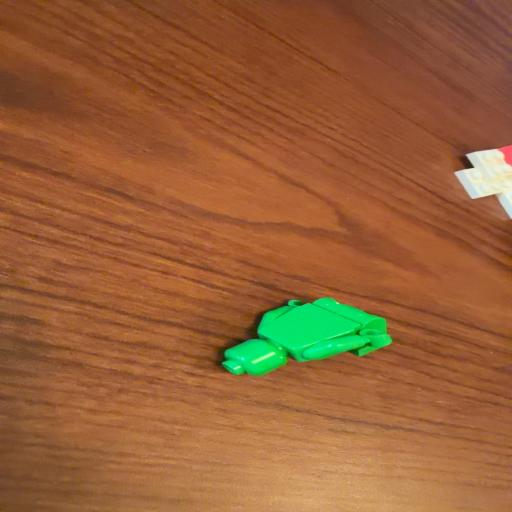UnoQ-minifig-detector: (221, 298, 392, 376)
